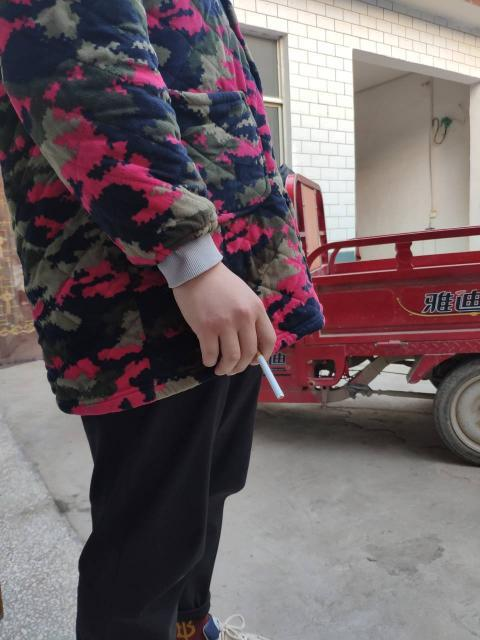Smoking: (246, 332, 294, 406)
